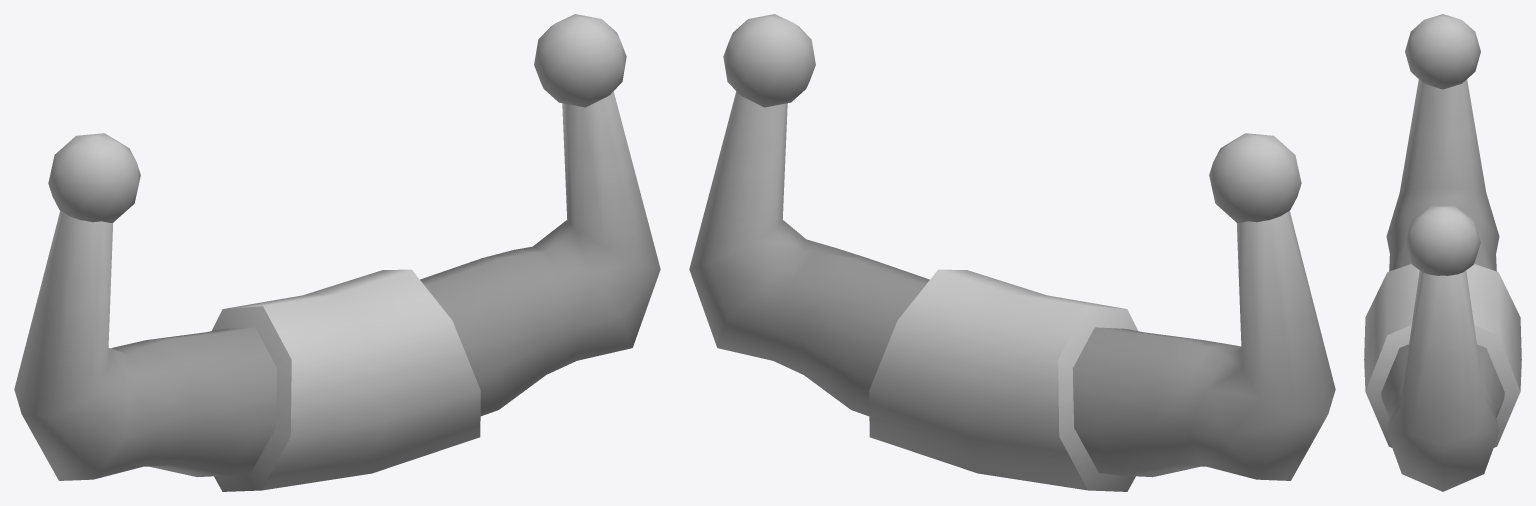
The model's file is stone_guard_046.glb.
3 views of the same model, side by side, from view 1: azimuth 30°, elevation 25°; view 2: azimuth 150°, elevation 25°; view 3: azimuth 270°, elevation 25° (orthographic). The views are drawn at different scales.
Visible parts, largest first — view 1: stone_guard.046; view 2: stone_guard.046; view 3: stone_guard.046.
Boxes of the visible parts, x1,y1,x2,y2 form: stone_guard.046: (14,14,660,491); stone_guard.046: (689,14,1335,491); stone_guard.046: (1364,14,1521,491).
Bounding box in the file's own units: 6.99 × 4.2 × 1.88.
1 material, 1 textured.
